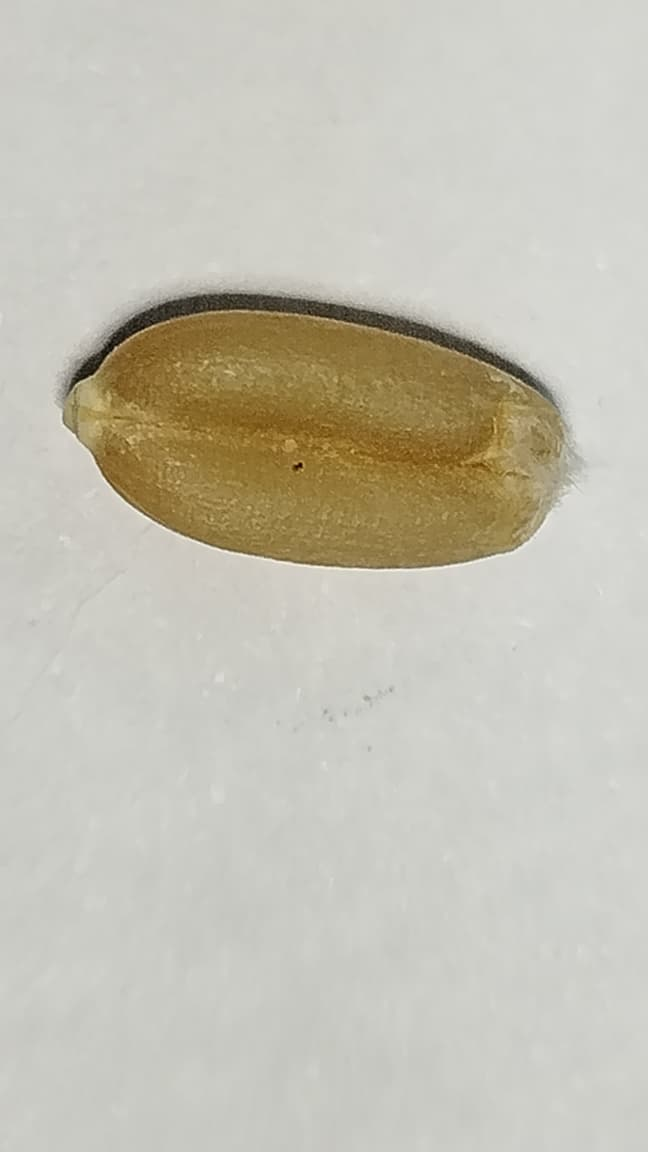healthy: (65, 306, 570, 568)
